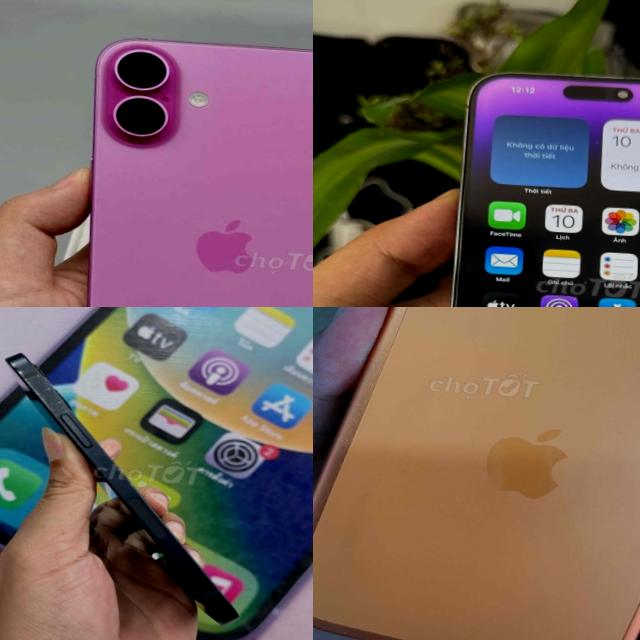gen_12_13: (0, 348, 258, 626)
gen_14: (431, 65, 640, 307)
gen_16: (62, 28, 313, 307)
gen_17: (313, 307, 640, 640)
